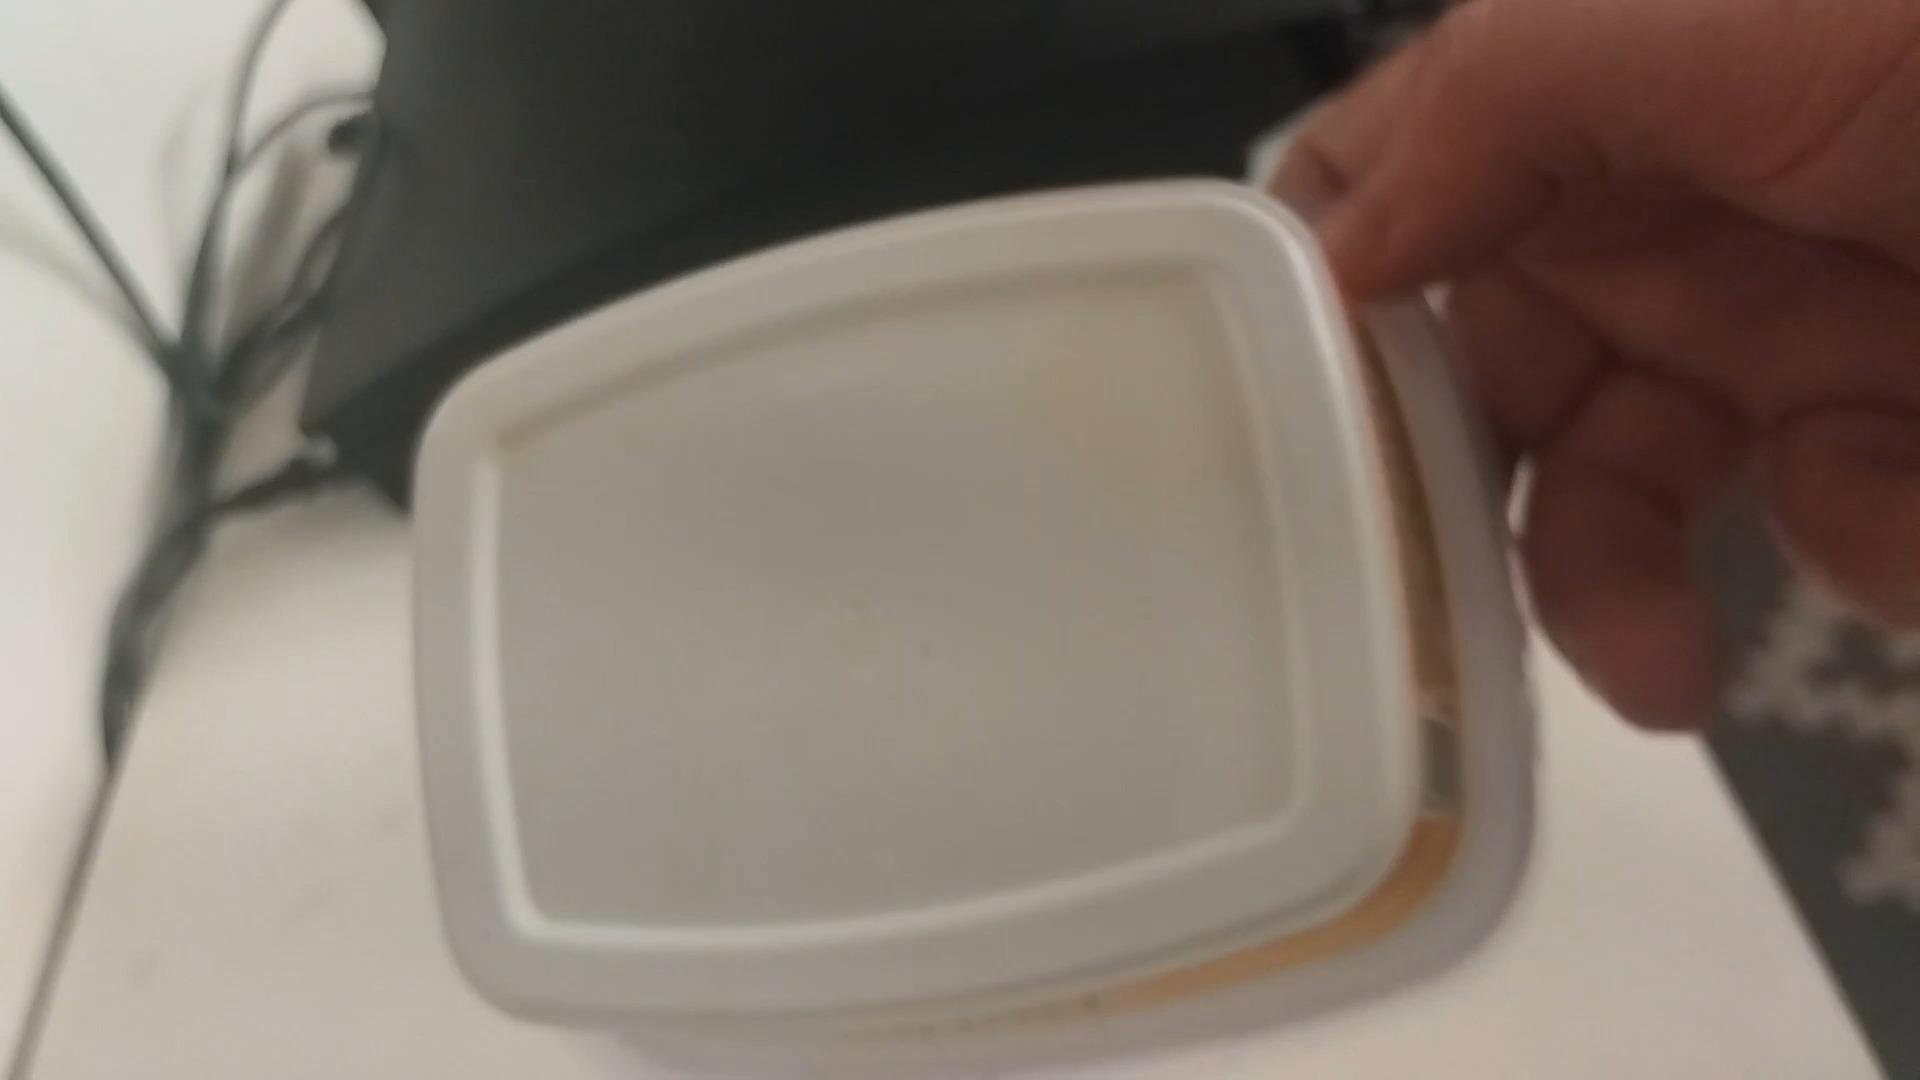butter: (406, 170, 1519, 1064)
